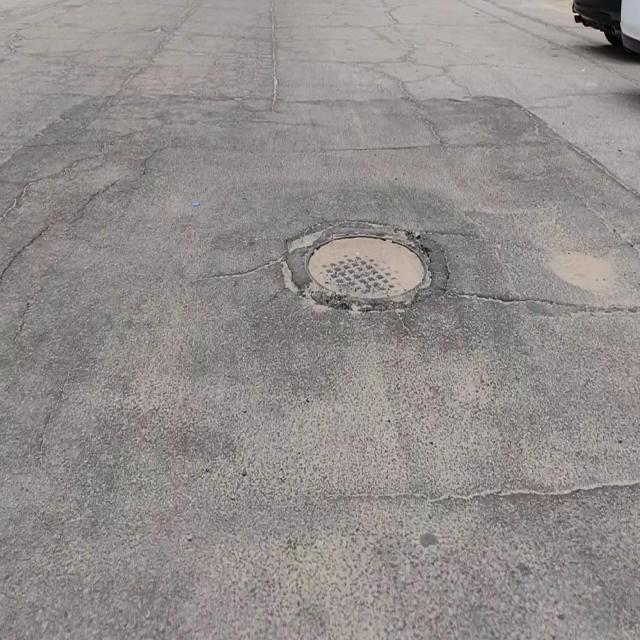Potholes: (307, 229, 426, 296)
